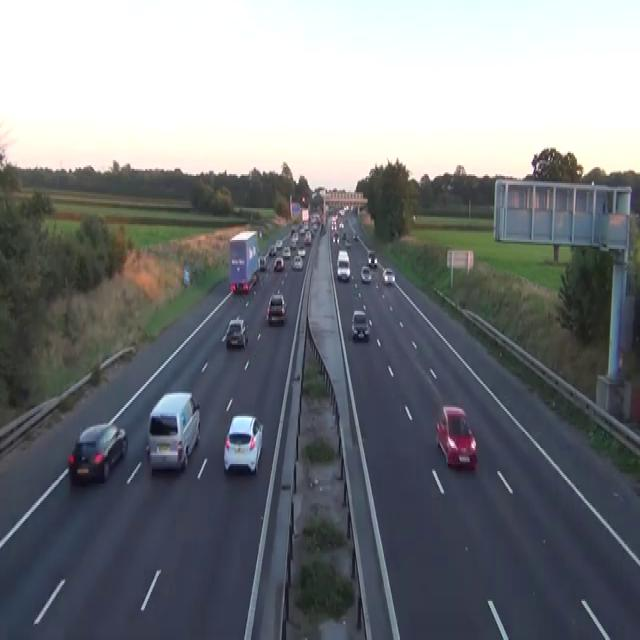Car: (146, 391, 200, 471), (67, 422, 128, 484), (435, 404, 477, 469), (223, 414, 263, 475), (224, 316, 248, 348), (266, 292, 287, 324), (351, 309, 369, 342), (230, 272, 257, 293), (336, 249, 350, 281), (382, 266, 395, 284), (231, 281, 249, 293), (360, 265, 371, 283), (367, 249, 377, 267), (292, 254, 303, 270), (273, 256, 284, 270), (259, 256, 267, 270), (310, 213, 320, 224), (282, 245, 290, 258), (304, 231, 311, 244), (332, 231, 339, 244), (297, 245, 305, 256), (275, 238, 283, 249), (269, 244, 276, 256), (320, 222, 326, 235), (291, 231, 298, 242), (290, 238, 296, 249), (446, 182, 454, 190), (299, 224, 304, 235), (339, 220, 344, 230), (345, 240, 352, 247), (352, 204, 357, 213), (341, 231, 346, 240), (352, 233, 358, 240), (338, 208, 344, 215), (291, 226, 296, 234), (258, 228, 262, 238)
Truck: (228, 230, 259, 294)
